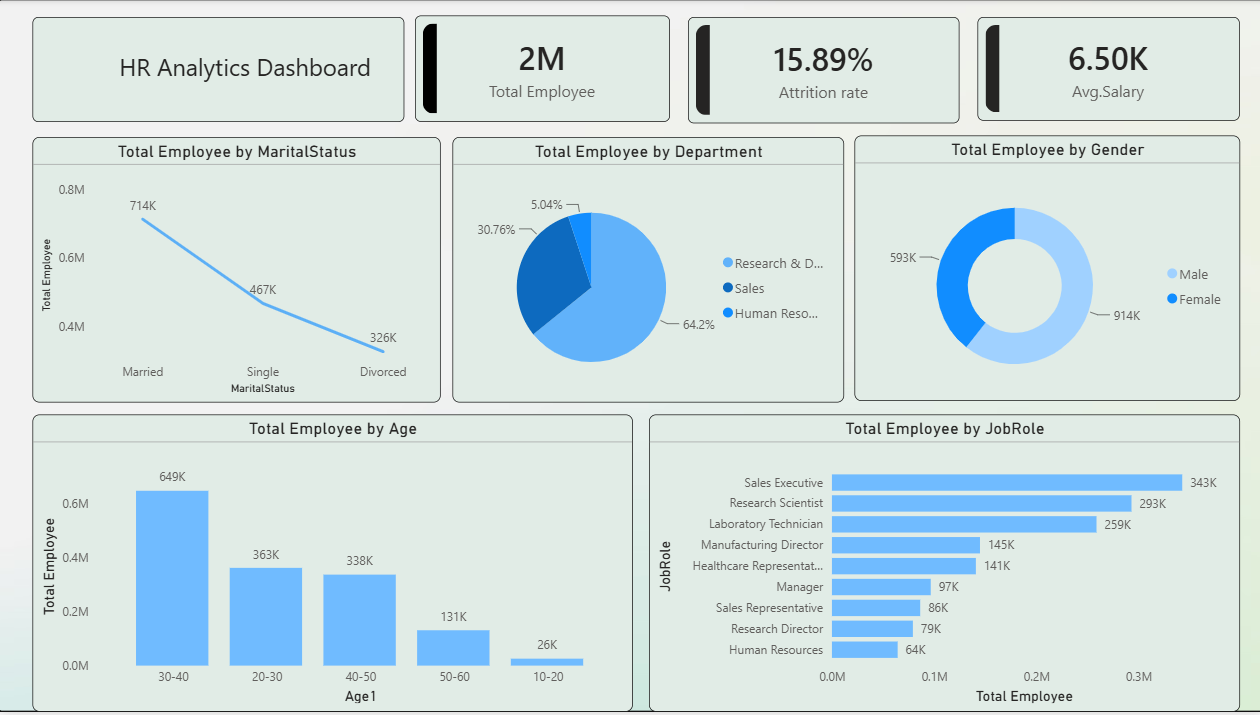

Layout of this report page (visuals, bound fields, positions):
{"tool":"powerbi","page":{"name":"Page 1","canvas":[1280,720],"ordinal":0},"visuals":[{"type":"cardVisual","fields":{"Data":["WA_Fn-UseC_-HR-Employee-Attrition.Total Employee"]},"box":[420.9,16.7,257.4,107.5],"z":0},{"type":"cardVisual","fields":{"Data":["WA_Fn-UseC_-HR-Employee-Attrition.Attribution rate"]},"box":[696.5,18.2,274.1,107.5],"z":1000},{"type":"cardVisual","fields":{"Data":["WA_Fn-UseC_-HR-Employee-Attrition.Avg.Salary"]},"box":[988.8,18.2,265,104.5],"z":2000},{"type":"donutChart","fields":{"Category":["WA_Fn-UseC_-HR-Employee-Attrition.Gender"],"Y":["WA_Fn-UseC_-HR-Employee-Attrition.Total Employee"]},"box":[864.6,137.8,389.2,268],"z":3000},{"type":"barChart","fields":{"Category":["WA_Fn-UseC_-HR-Employee-Attrition.JobRole"],"Y":["WA_Fn-UseC_-HR-Employee-Attrition.Total Employee"]},"box":[657.2,419.4,596.6,299.8],"z":4000},{"type":"columnChart","title":"Total Employee by Age","fields":{"Y":["WA_Fn-UseC_-HR-Employee-Attrition.Total Employee"],"Category":["WA_Fn-UseC_-HR-Employee-Attrition.Age1"]},"box":[34.8,419.4,605.7,299.8],"z":5000},{"type":"pieChart","fields":{"Category":["WA_Fn-UseC_-HR-Employee-Attrition.Department"],"Y":["WA_Fn-UseC_-HR-Employee-Attrition.Total Employee"]},"box":[458.8,139.3,395.2,268],"z":6000},{"type":"lineChart","fields":{"Category":["WA_Fn-UseC_-HR-Employee-Attrition.MaritalStatus"],"Y":["WA_Fn-UseC_-HR-Employee-Attrition.Total Employee"]},"box":[34.8,139.3,411.9,268],"z":7000},{"type":"textbox","box":[34.8,18.2,375.5,106],"z":9000}]}

Visuals, with their boxes in screenshot pixels (x1, y1, x2, y2), scaled from the page's 1280x720 canvas onto the 1260x715 screenshot:
cardVisual - WA_Fn-UseC_-HR-Employee-Attrition.Total Employee: [414, 17, 668, 123]
cardVisual - WA_Fn-UseC_-HR-Employee-Attrition.Attribution rate: [686, 18, 955, 125]
cardVisual - WA_Fn-UseC_-HR-Employee-Attrition.Avg.Salary: [973, 18, 1234, 122]
donutChart - WA_Fn-UseC_-HR-Employee-Attrition.Gender x WA_Fn-UseC_-HR-Employee-Attrition.Total Employee: [851, 137, 1234, 403]
barChart - WA_Fn-UseC_-HR-Employee-Attrition.JobRole x WA_Fn-UseC_-HR-Employee-Attrition.Total Employee: [647, 416, 1234, 714]
"Total Employee by Age" columnChart: [34, 416, 630, 714]
pieChart - WA_Fn-UseC_-HR-Employee-Attrition.Department x WA_Fn-UseC_-HR-Employee-Attrition.Total Employee: [452, 138, 841, 404]
lineChart - WA_Fn-UseC_-HR-Employee-Attrition.MaritalStatus x WA_Fn-UseC_-HR-Employee-Attrition.Total Employee: [34, 138, 440, 404]
textbox: [34, 18, 404, 123]
